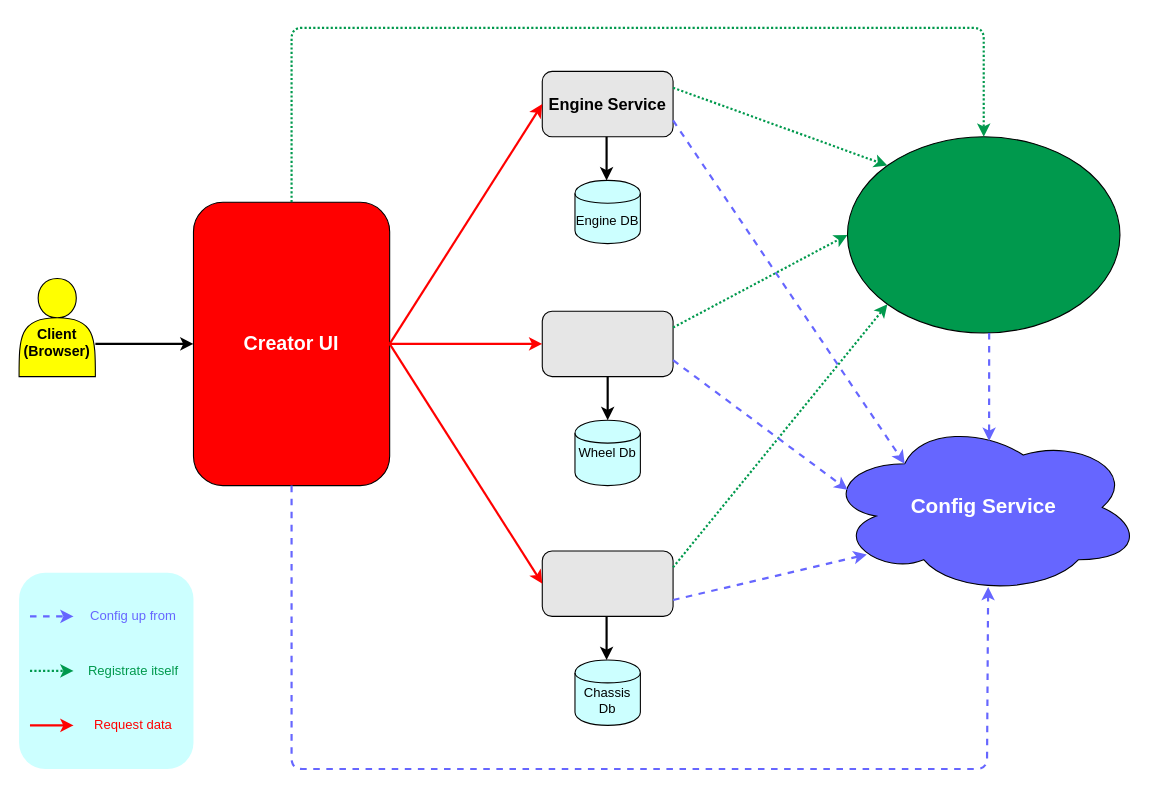
The diagram is 1161 pixels wide and 797 high, and some of its shapes have lost their labels. Each missing label, with the centre of its shape:
"Chassis Service" goes at pixel 607 583.
"Eureka Discovery Service" goes at pixel 983 234.
"Wheel Service" goes at pixel 607 343.
